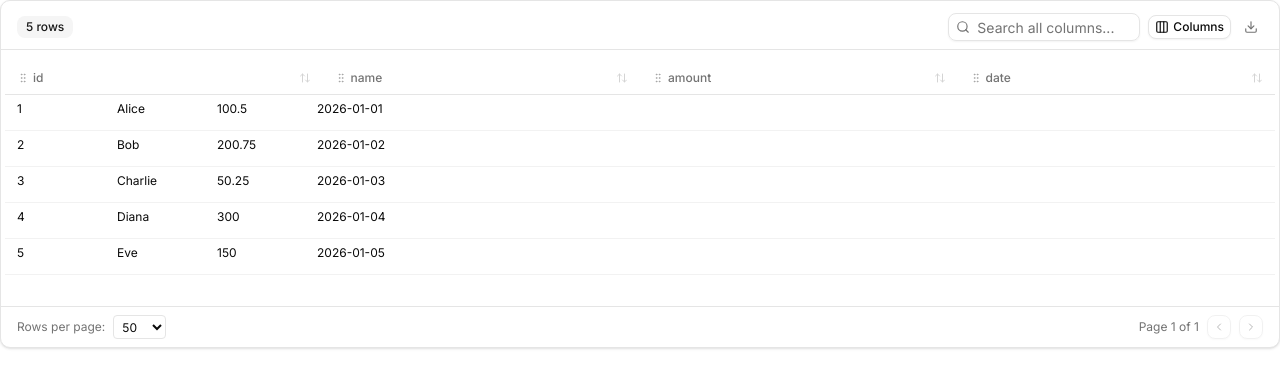
Test: DataTable › sorts descending on second header click
The image size is (1280, 366).
First click: ascending
Click the column heading with test id "column-header-name".
click(481, 78)  # box [322,62,640,94]
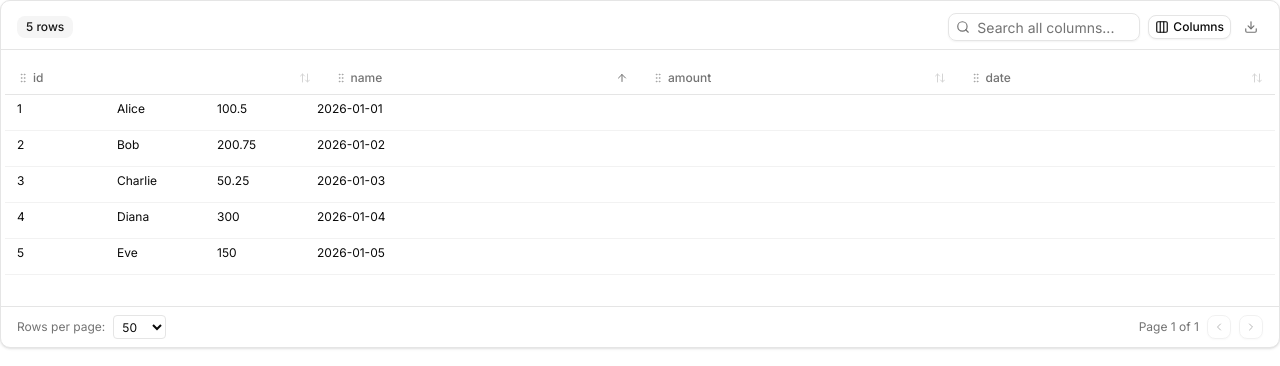
Expected: the icon with test id "sort-asc" is shown, [616,72,628,84]
Second click: descending
Click the column heading with test id "column-header-name".
click(481, 78)  # box [322,62,640,94]
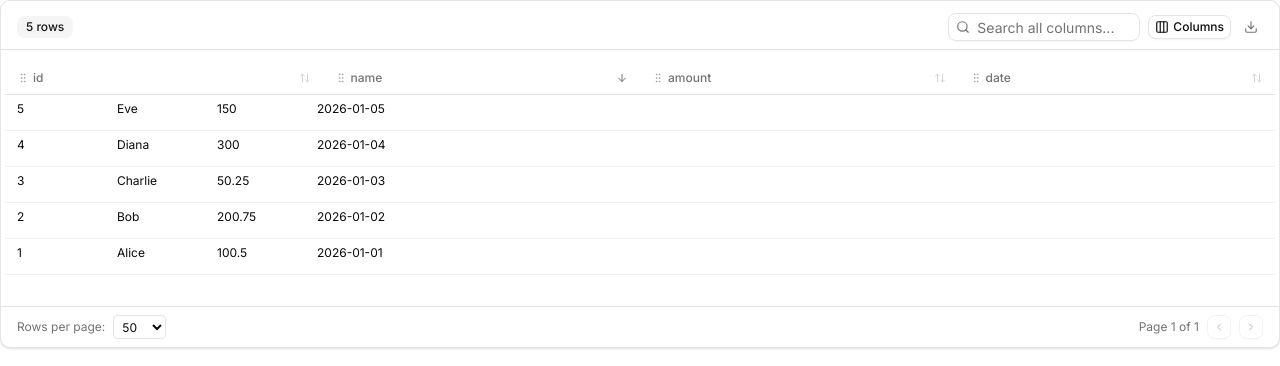
Expected: the text "Eve" is shown, [117,100,138,116]
Expected: the icon with test id "sort-desc" is shown, [616,72,628,84]
